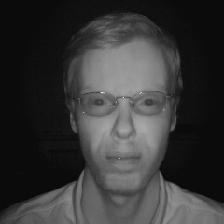normal: (60, 16, 192, 196)
